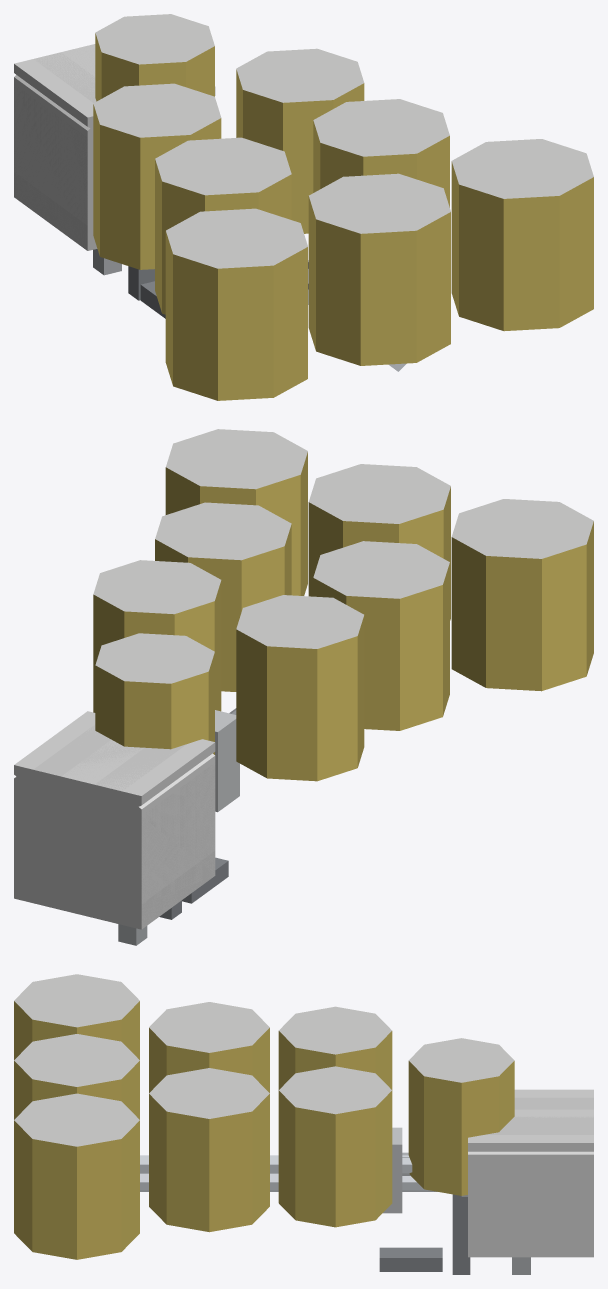
The model's file is corridor-kit-v2.glb.
3 renders of one model, top to bottom at view 1: azimuth 30°, elevation 25°; view 2: azimuth 150°, elevation 25°; view 3: azimuth 270°, elevation 25°, orthographic. The views are drawn at different scales.
Parts seen in each view (by area): view 1: GoreAttenuator, RailEndPost, RetainingWall, ConcreteBarrier, RailTerminal, RailPanel; view 2: GoreAttenuator, RailEndPost, ConcreteBarrier, RetainingWall, RailTerminal; view 3: GoreAttenuator, RailEndPost, RetainingWall, RailTerminal, ConcreteBarrier, RailPanel.
Boxes of the visible parts, <box> form: GoreAttenuator: <box>93,14,593,400</box>; RailEndPost: <box>14,45,96,250</box>; RetainingWall: <box>14,44,215,250</box>; ConcreteBarrier: <box>14,44,97,250</box>; RailTerminal: <box>128,266,165,318</box>; RailPanel: <box>93,249,406,371</box>; GoreAttenuator: <box>93,429,593,781</box>; RailEndPost: <box>14,724,215,929</box>; ConcreteBarrier: <box>14,740,215,929</box>; RetainingWall: <box>14,711,215,928</box>; RailTerminal: <box>159,710,239,919</box>; GoreAttenuator: <box>14,974,514,1259</box>; RailEndPost: <box>468,1097,593,1257</box>; RetainingWall: <box>468,1089,593,1256</box>; RailTerminal: <box>379,1127,470,1274</box>; ConcreteBarrier: <box>468,1109,593,1257</box>; RailPanel: <box>140,1155,530,1274</box>.
Size of the model in its own units: 3.24 by 1.89 by 4.6.
